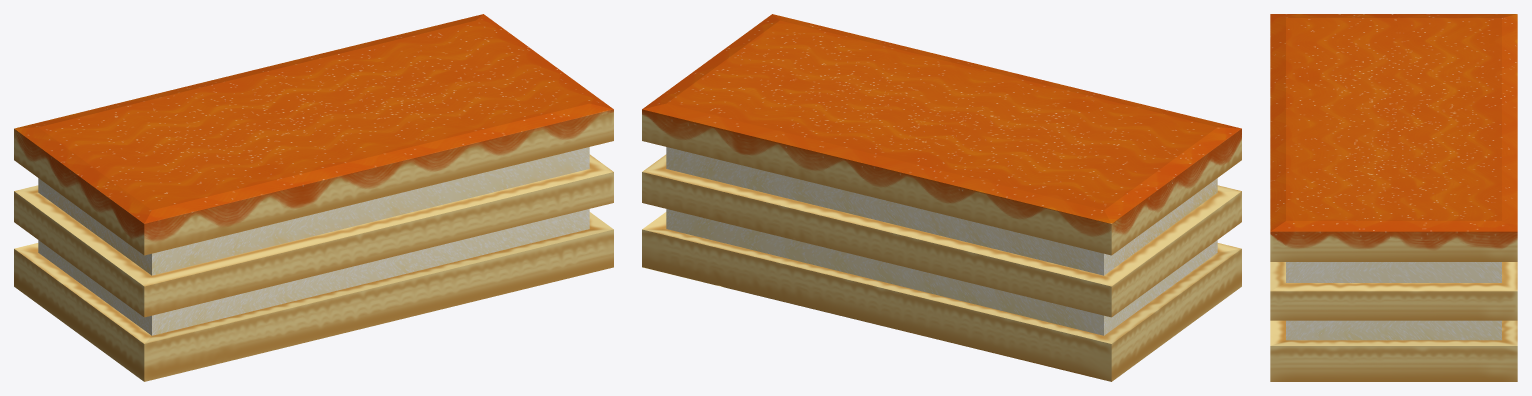
File: MilHojas.fbx
3 views of the same model, side by side, from view 1: azimuth 30°, elevation 25°; view 2: azimuth 150°, elevation 25°; view 3: azimuth 270°, elevation 25° (orthographic). The views are drawn at different scales.
Visible parts, largest first — view 1: pCube10; view 2: pCube10; view 3: pCube10.
Part boxes in pixels (x1=…): pCube10: x1=14, y1=14, x2=613, y2=381; pCube10: x1=642, y1=14, x2=1241, y2=381; pCube10: x1=1270, y1=14, x2=1517, y2=381.
Size of the model in its own units: 35.56 by 11.78 by 17.09.
Materials: 1 (1 with a texture image).
